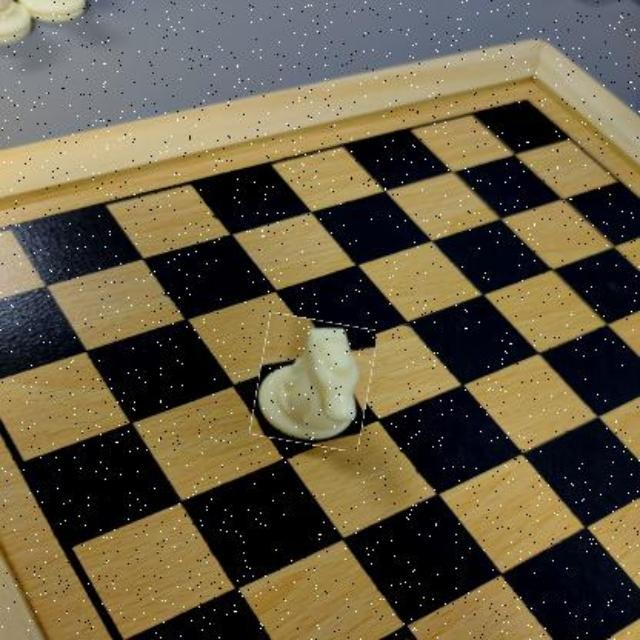white-knight: (254, 317, 372, 449)
